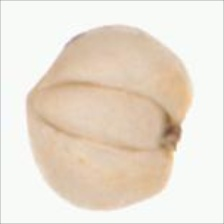L5: (24, 79, 170, 154), (23, 66, 40, 144), (160, 114, 184, 169)
L6: (20, 21, 197, 212)
